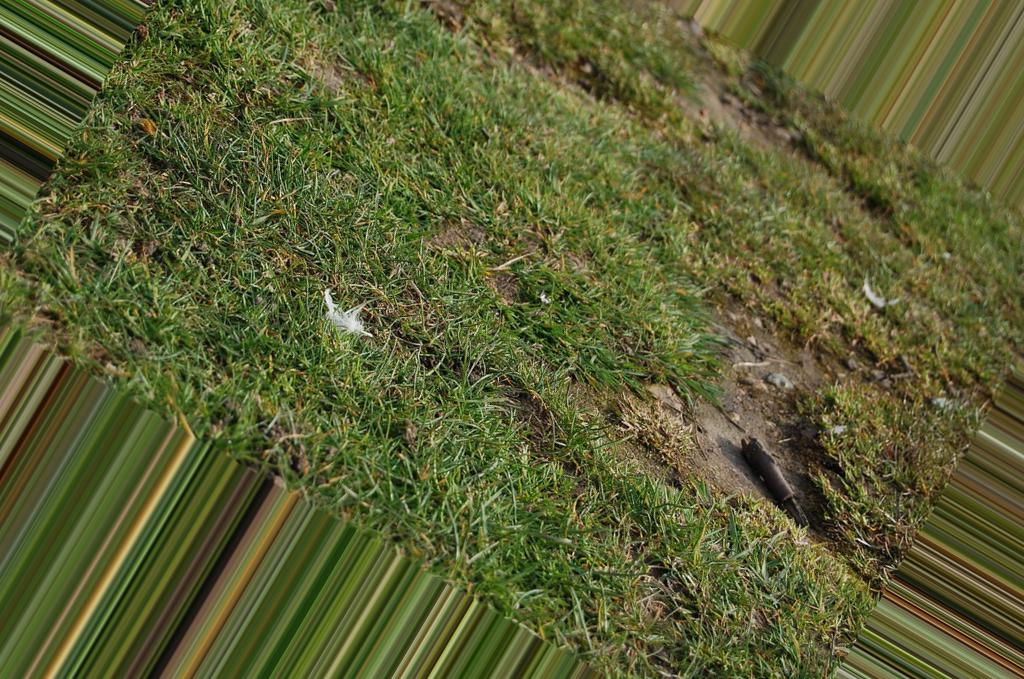patch: (714, 299, 801, 520), (697, 36, 792, 163)
